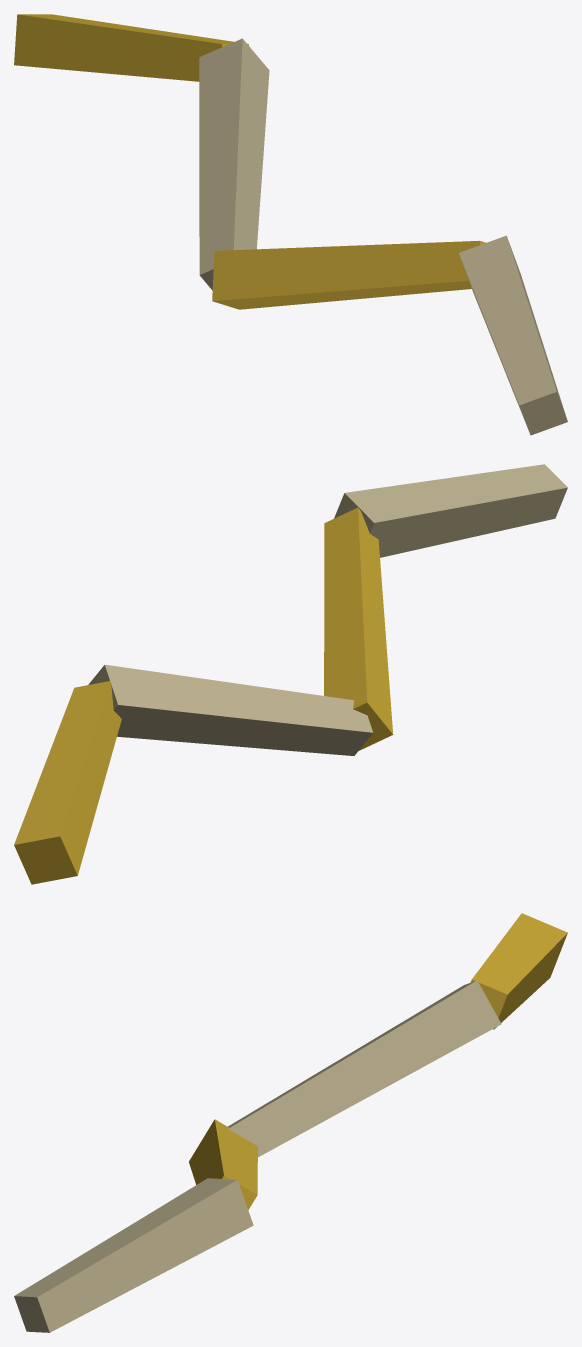
File: drone_bolt.glb
The picture shows the model from 3 angles, top to bottom: view 1: azimuth 30°, elevation 25°; view 2: azimuth 150°, elevation 25°; view 3: azimuth 330°, elevation 25°; orthographic projection.
Visible parts, largest first — view 1: drone_bolt; view 2: drone_bolt; view 3: drone_bolt.
Part boxes in pixels (x1,y1,x2,y2): drone_bolt: (14,14,567,435); drone_bolt: (14,464,567,884); drone_bolt: (14,913,567,1332).
Bounding box in the file's own units: 0.0762 × 0.0586 × 0.3674.
